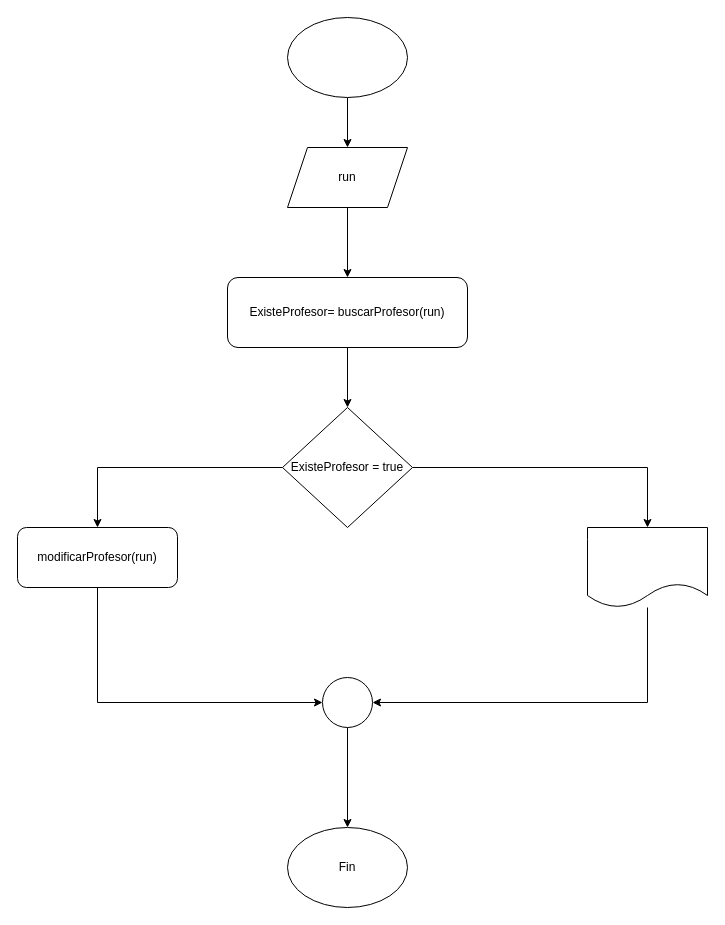
Image size: 725x925. Some labels were removed from this diagram. Here are the shapes that lost their labels. From the top down, the centre of each, then its label:
pixel 347 57: Modificar Profesor
pixel 647 567: "El profesor no esta registrado"
